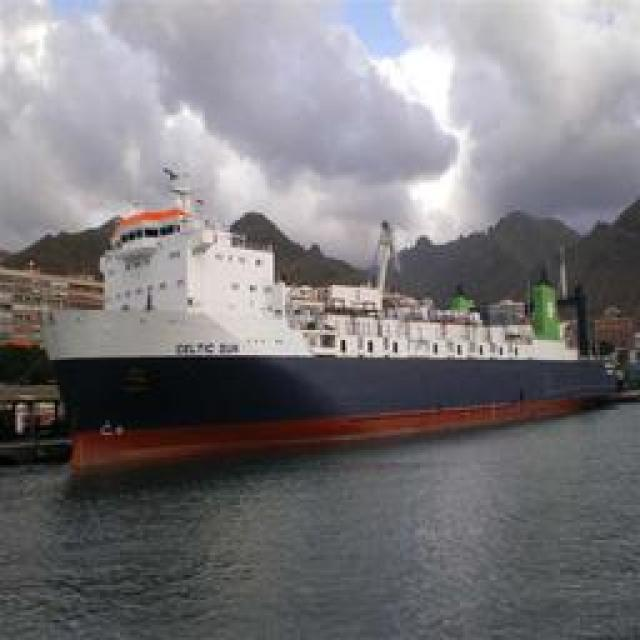CIV_Ship: (47, 190, 615, 448)
